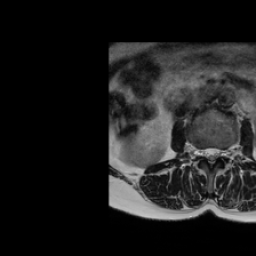CCS_normal: (207, 140, 214, 172)
LFS_normal: (220, 140, 227, 163)
LLS_normal: (214, 140, 220, 165)
RFS_normal: (196, 140, 202, 163)
RLS_normal: (202, 141, 207, 165)
